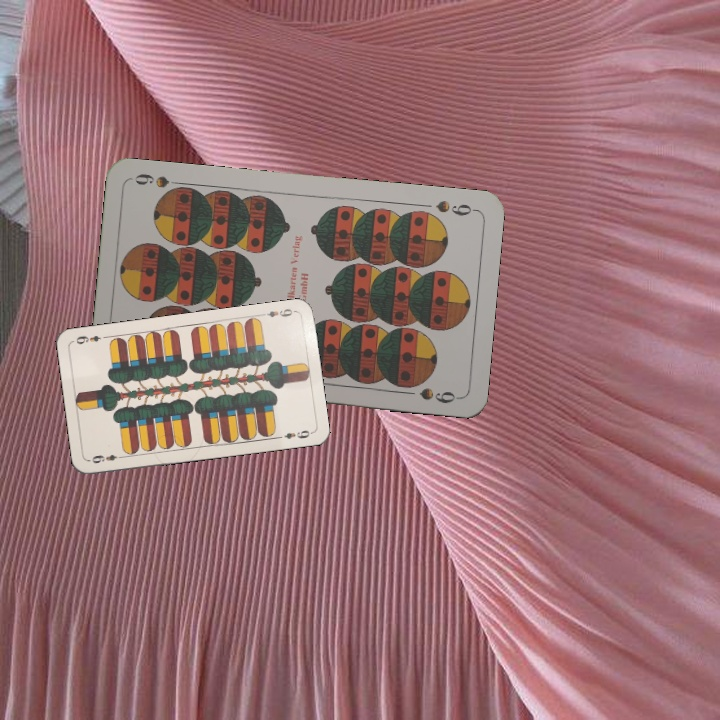E9: (86, 450, 127, 466), (257, 304, 298, 320)
S9: (431, 196, 478, 219)
